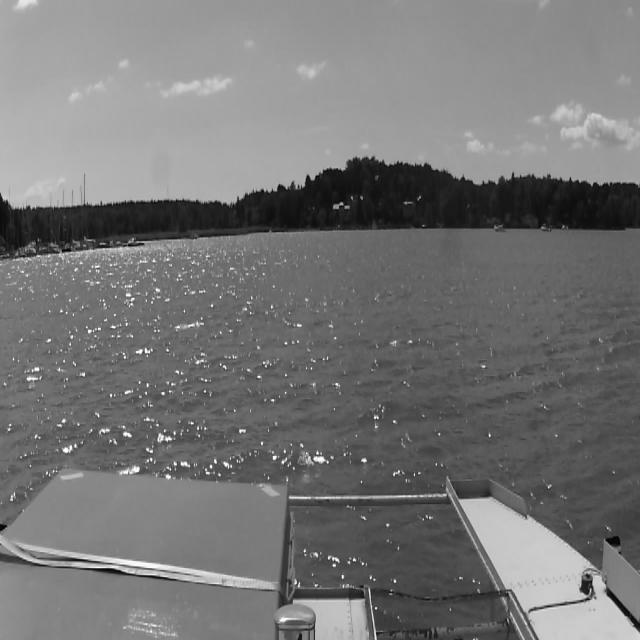ship: (78, 176, 94, 253), (44, 184, 58, 255), (61, 188, 73, 254), (126, 234, 146, 248), (540, 221, 552, 234), (493, 220, 505, 232)
